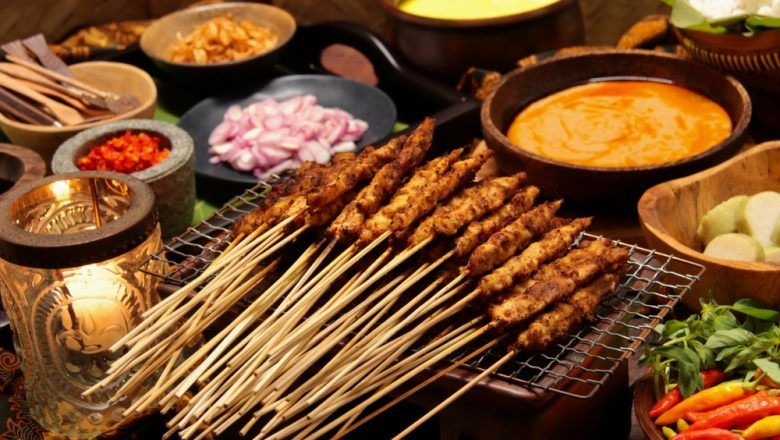sate: (228, 117, 632, 368)
